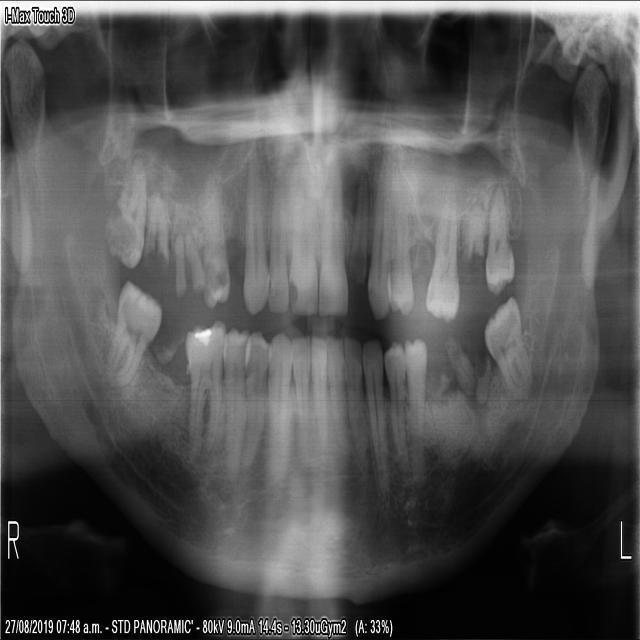LCD: (361, 334, 390, 501)
LCU: (364, 149, 391, 325)
LID: (343, 334, 366, 465), (326, 330, 350, 455)
LIU: (316, 144, 348, 319)
LMD: (481, 291, 533, 400)
LMU: (423, 186, 461, 326), (482, 178, 514, 299)
LPMD: (382, 337, 414, 486), (403, 331, 426, 490)
LPMU: (391, 151, 414, 319)
RCD: (266, 327, 291, 483)
RCU: (239, 147, 266, 316)
RID: (290, 333, 310, 467), (311, 333, 328, 454)
RIU: (286, 154, 317, 318), (263, 161, 287, 316)
RMD: (102, 275, 162, 391), (182, 315, 224, 461)
RMU: (102, 152, 147, 270)
RPMD: (237, 327, 266, 474), (220, 323, 245, 484)
RPMU: (200, 167, 230, 311)
